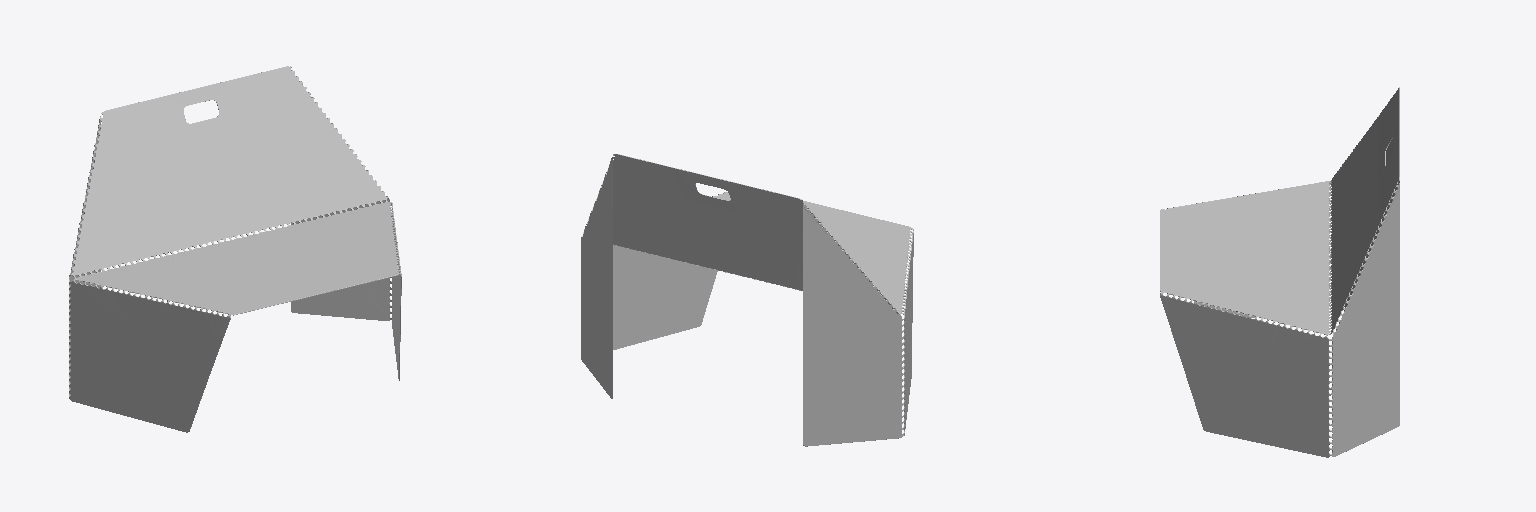
Rendered from moroso_bent_armchair_high_obj.obj.
The picture shows the model from 3 angles: view 1: azimuth 30°, elevation 25°; view 2: azimuth 150°, elevation 25°; view 3: azimuth 270°, elevation 25°; orthographic projection.
Parts seen in each view (by area): view 1: moroso_bent_armchair_high; view 2: moroso_bent_armchair_high; view 3: moroso_bent_armchair_high.
Boxes of the visible parts, x1=… form: moroso_bent_armchair_high: x1=69, y1=66, x2=401, y2=432; moroso_bent_armchair_high: x1=581, y1=154, x2=913, y2=446; moroso_bent_armchair_high: x1=1160, y1=87, x2=1399, y2=457.
Bounding box in the file's own units: 94.17 × 69.02 × 60.86.